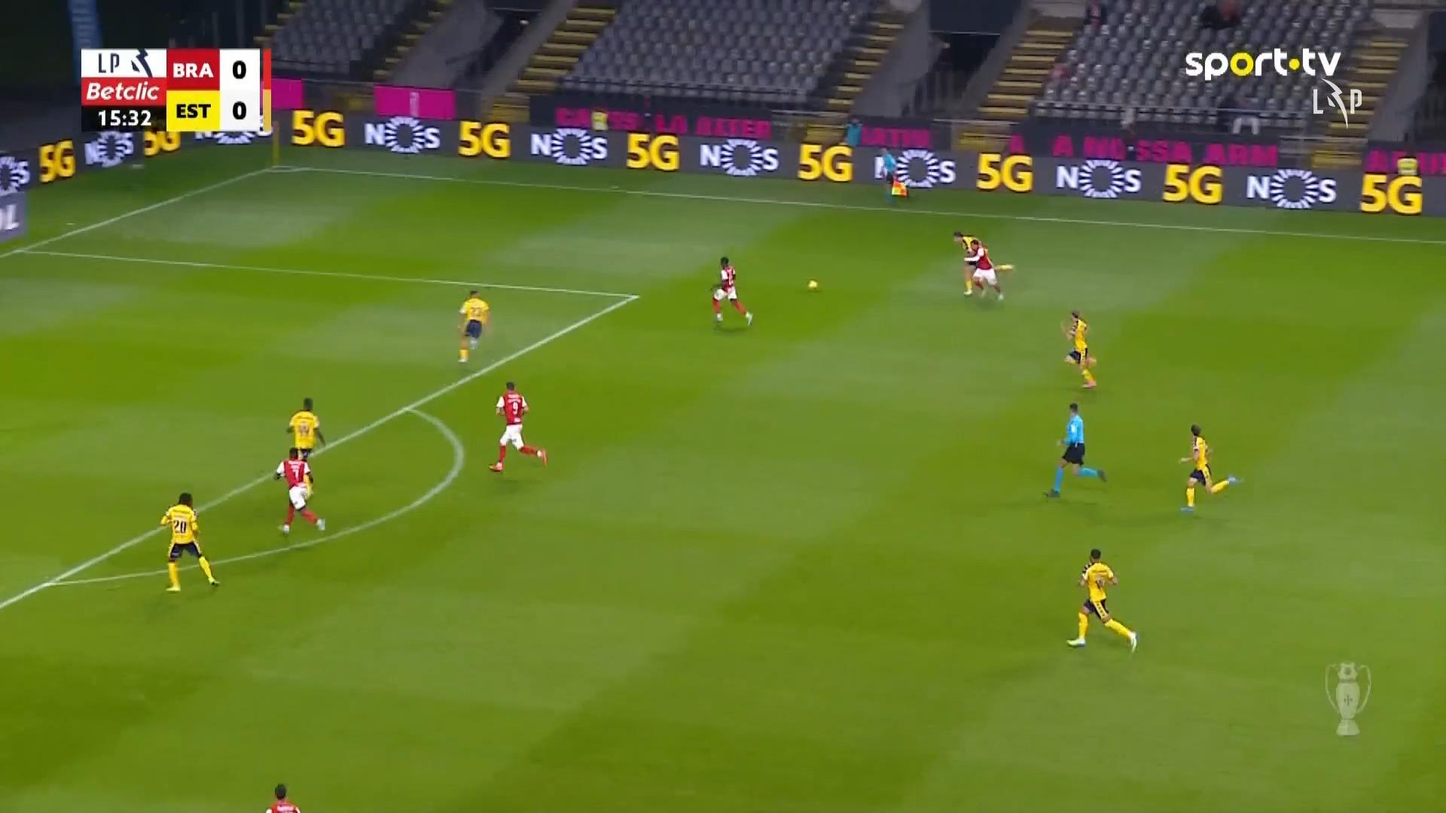ball: (807, 279, 817, 289)
player: (1066, 547, 1139, 653), (158, 491, 220, 592), (1178, 423, 1240, 512), (488, 380, 548, 471), (273, 446, 325, 534), (952, 229, 1015, 296), (709, 255, 753, 327), (1060, 309, 1097, 388), (285, 396, 325, 462), (456, 288, 490, 364), (963, 241, 1004, 301), (265, 782, 301, 811)
referee: (1043, 401, 1106, 498), (879, 146, 910, 207)
